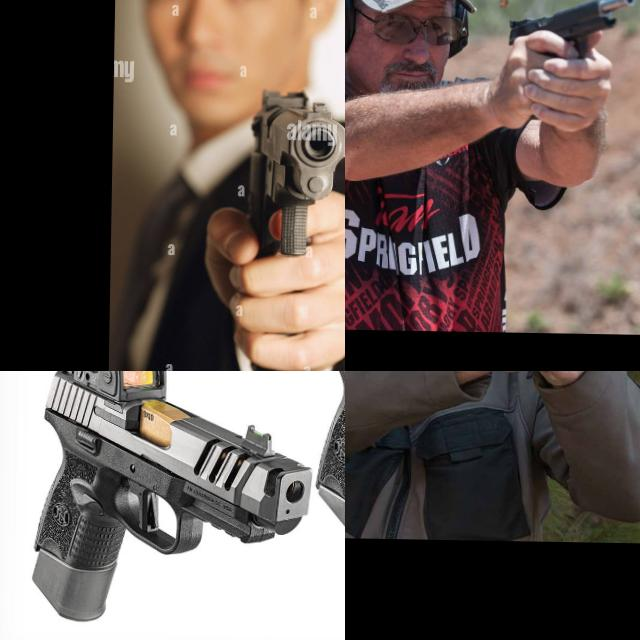handgun: (26, 371, 316, 628), (235, 80, 345, 262), (505, 0, 638, 62), (526, 371, 640, 412)
